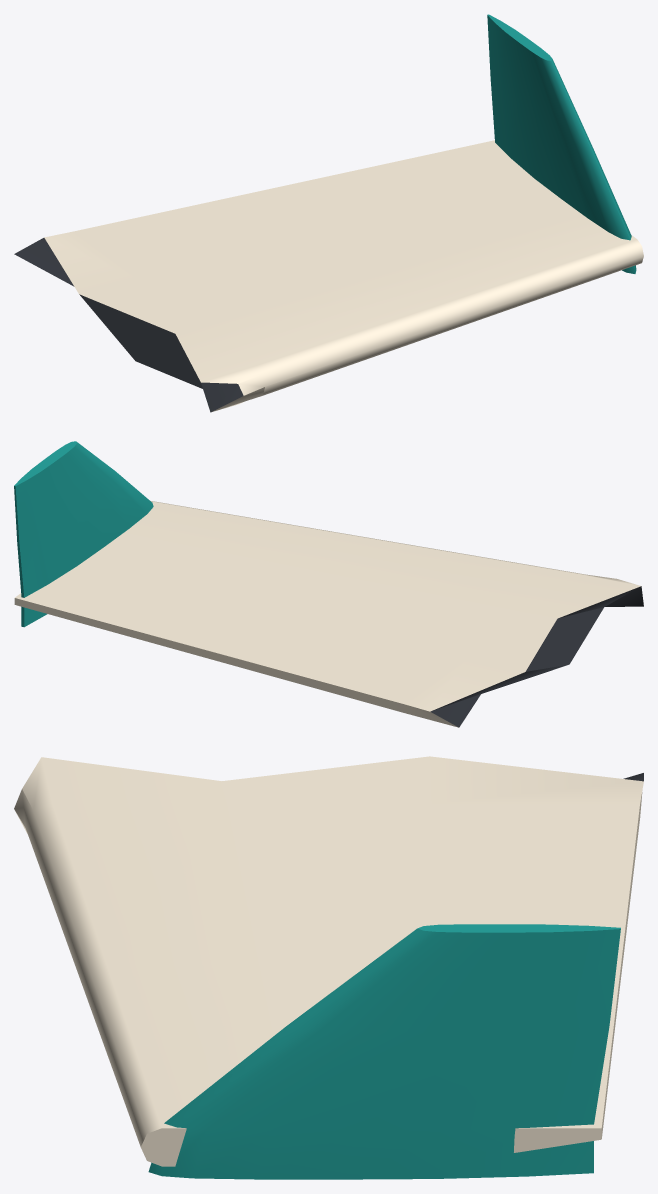
The model's file is RotPuntaIzq.fbx.
The picture shows the model from 3 angles, top to bottom: view 1: azimuth 30°, elevation 25°; view 2: azimuth 150°, elevation 25°; view 3: azimuth 270°, elevation 25°; orthographic projection. The views are drawn at different scales.
Visible parts, largest first — view 1: RotPuntaIzq; view 2: RotPuntaIzq; view 3: RotPuntaIzq.
Boxes of the visible parts, x1,y1,x2,y2 form: RotPuntaIzq: (14, 14, 643, 412); RotPuntaIzq: (14, 441, 643, 727); RotPuntaIzq: (14, 756, 643, 1179).
Bounding box in the file's own units: 11.53 × 3.52 × 8.2.
1 material, 1 textured.
